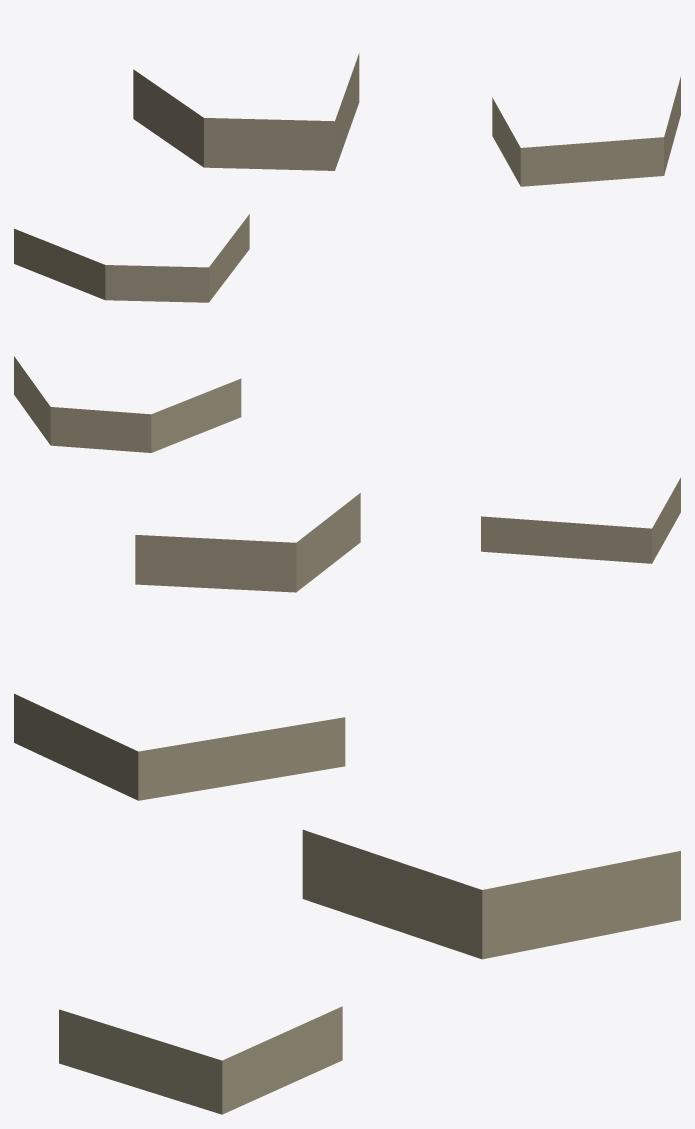
Rendered from paper_scraps.glb.
The picture shows the model from 3 angles, top to bottom: view 1: azimuth 30°, elevation 25°; view 2: azimuth 150°, elevation 25°; view 3: azimuth 270°, elevation 25°; orthographic projection. The views are drawn at different scales.
Parts seen in each view (by area): view 1: paper_scraps; view 2: paper_scraps; view 3: paper_scraps.
Boxes of the visible parts, left/top/right/bottom form: paper_scraps: left=14, top=53, right=680, bottom=302; paper_scraps: left=14, top=356, right=680, bottom=592; paper_scraps: left=14, top=693, right=680, bottom=1114.
Size of the model in its own units: 0.4073 by 0.0297 by 0.2584.
